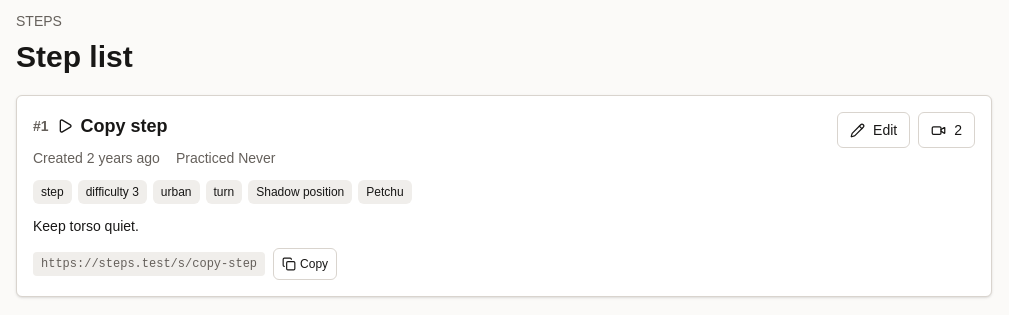
Test: StepList › copies the visible shortlink
Step 1. Click the button with aria-label "Copy shortlink" → (305, 264), box [273, 248, 337, 280]
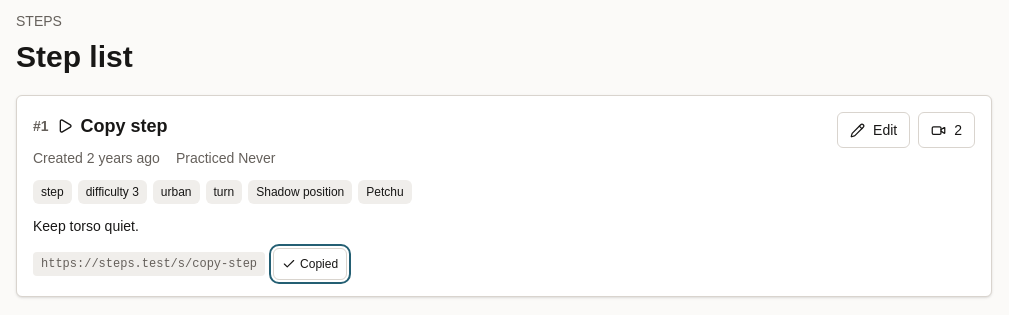
Now the button "Copied" is shown, box [273, 248, 347, 280]
